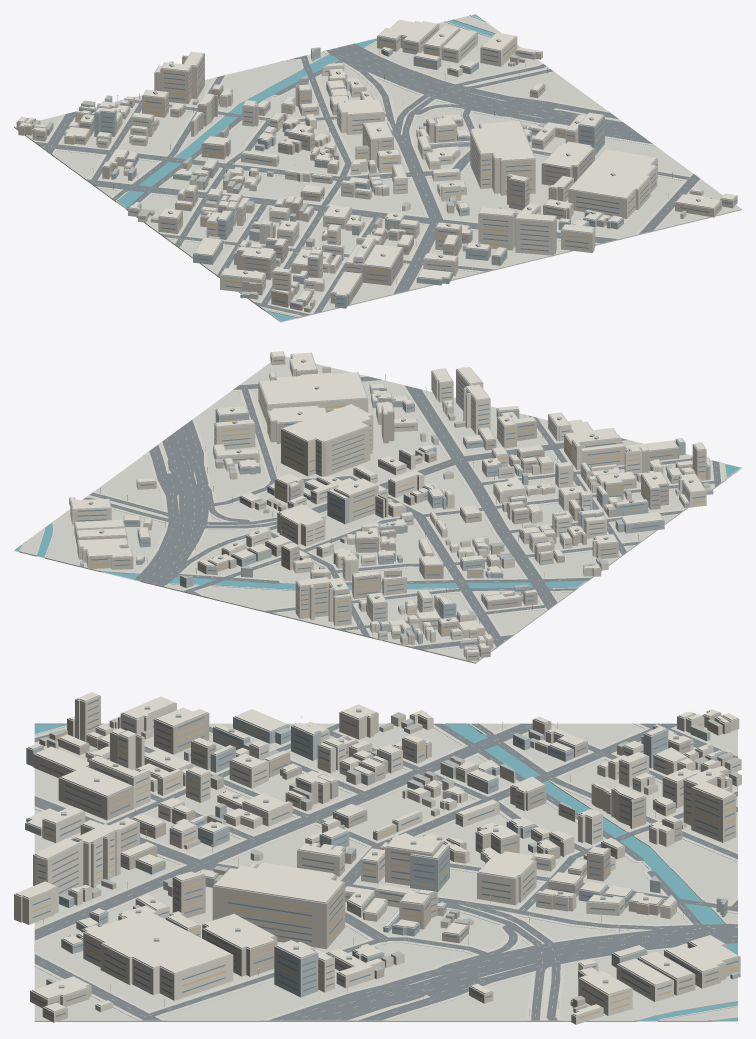
The picture shows the model from 3 angles, top to bottom: view 1: azimuth 30°, elevation 25°; view 2: azimuth 150°, elevation 25°; view 3: azimuth 270°, elevation 25°; orthographic projection. The views are drawn at different scales.
Visible parts, largest first — view 1: city; view 2: city; view 3: city.
Part boxes in pixels (x1=…): city: x1=14, y1=14, x2=741, y2=322; city: x1=14, y1=351, x2=741, y2=663; city: x1=14, y1=692, x2=741, y2=1024.
Bounding box in the file's own units: 520 × 37.15 × 518.
